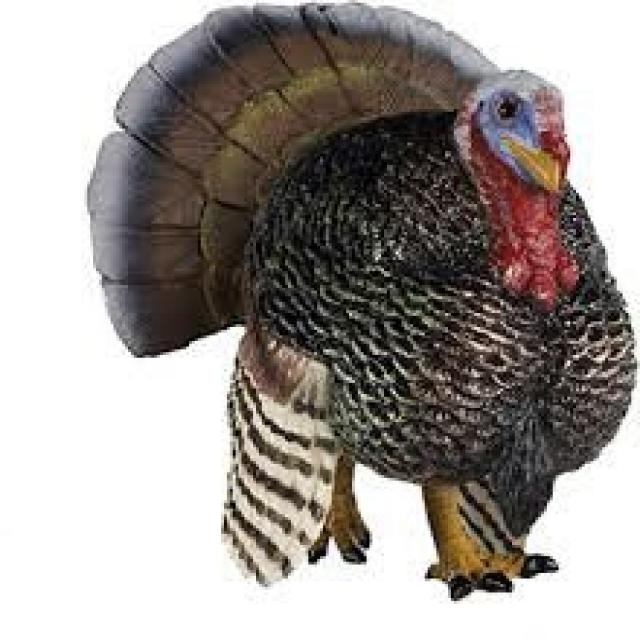turkey: (90, 3, 637, 595)
